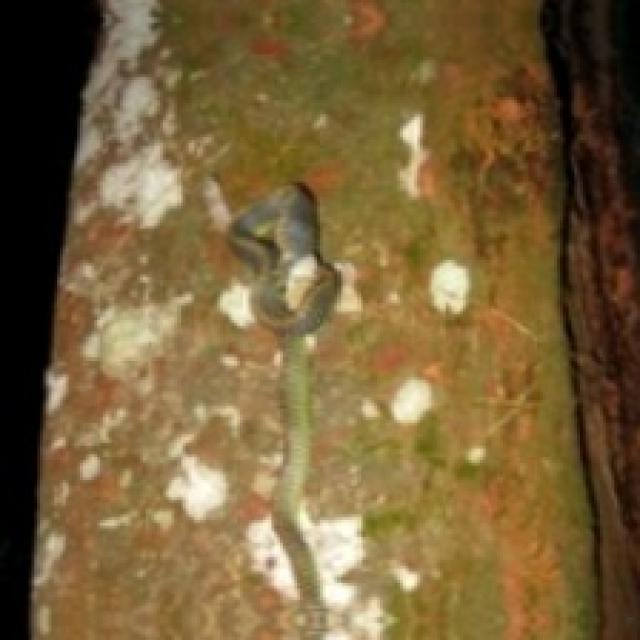paradise tree snake: (229, 183, 337, 637), (229, 183, 337, 529)
